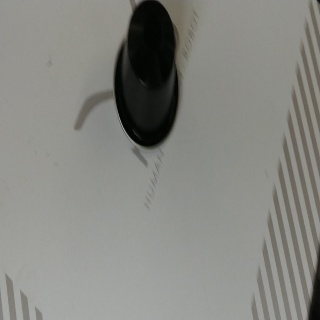capsule_10: (112, 1, 180, 152)
